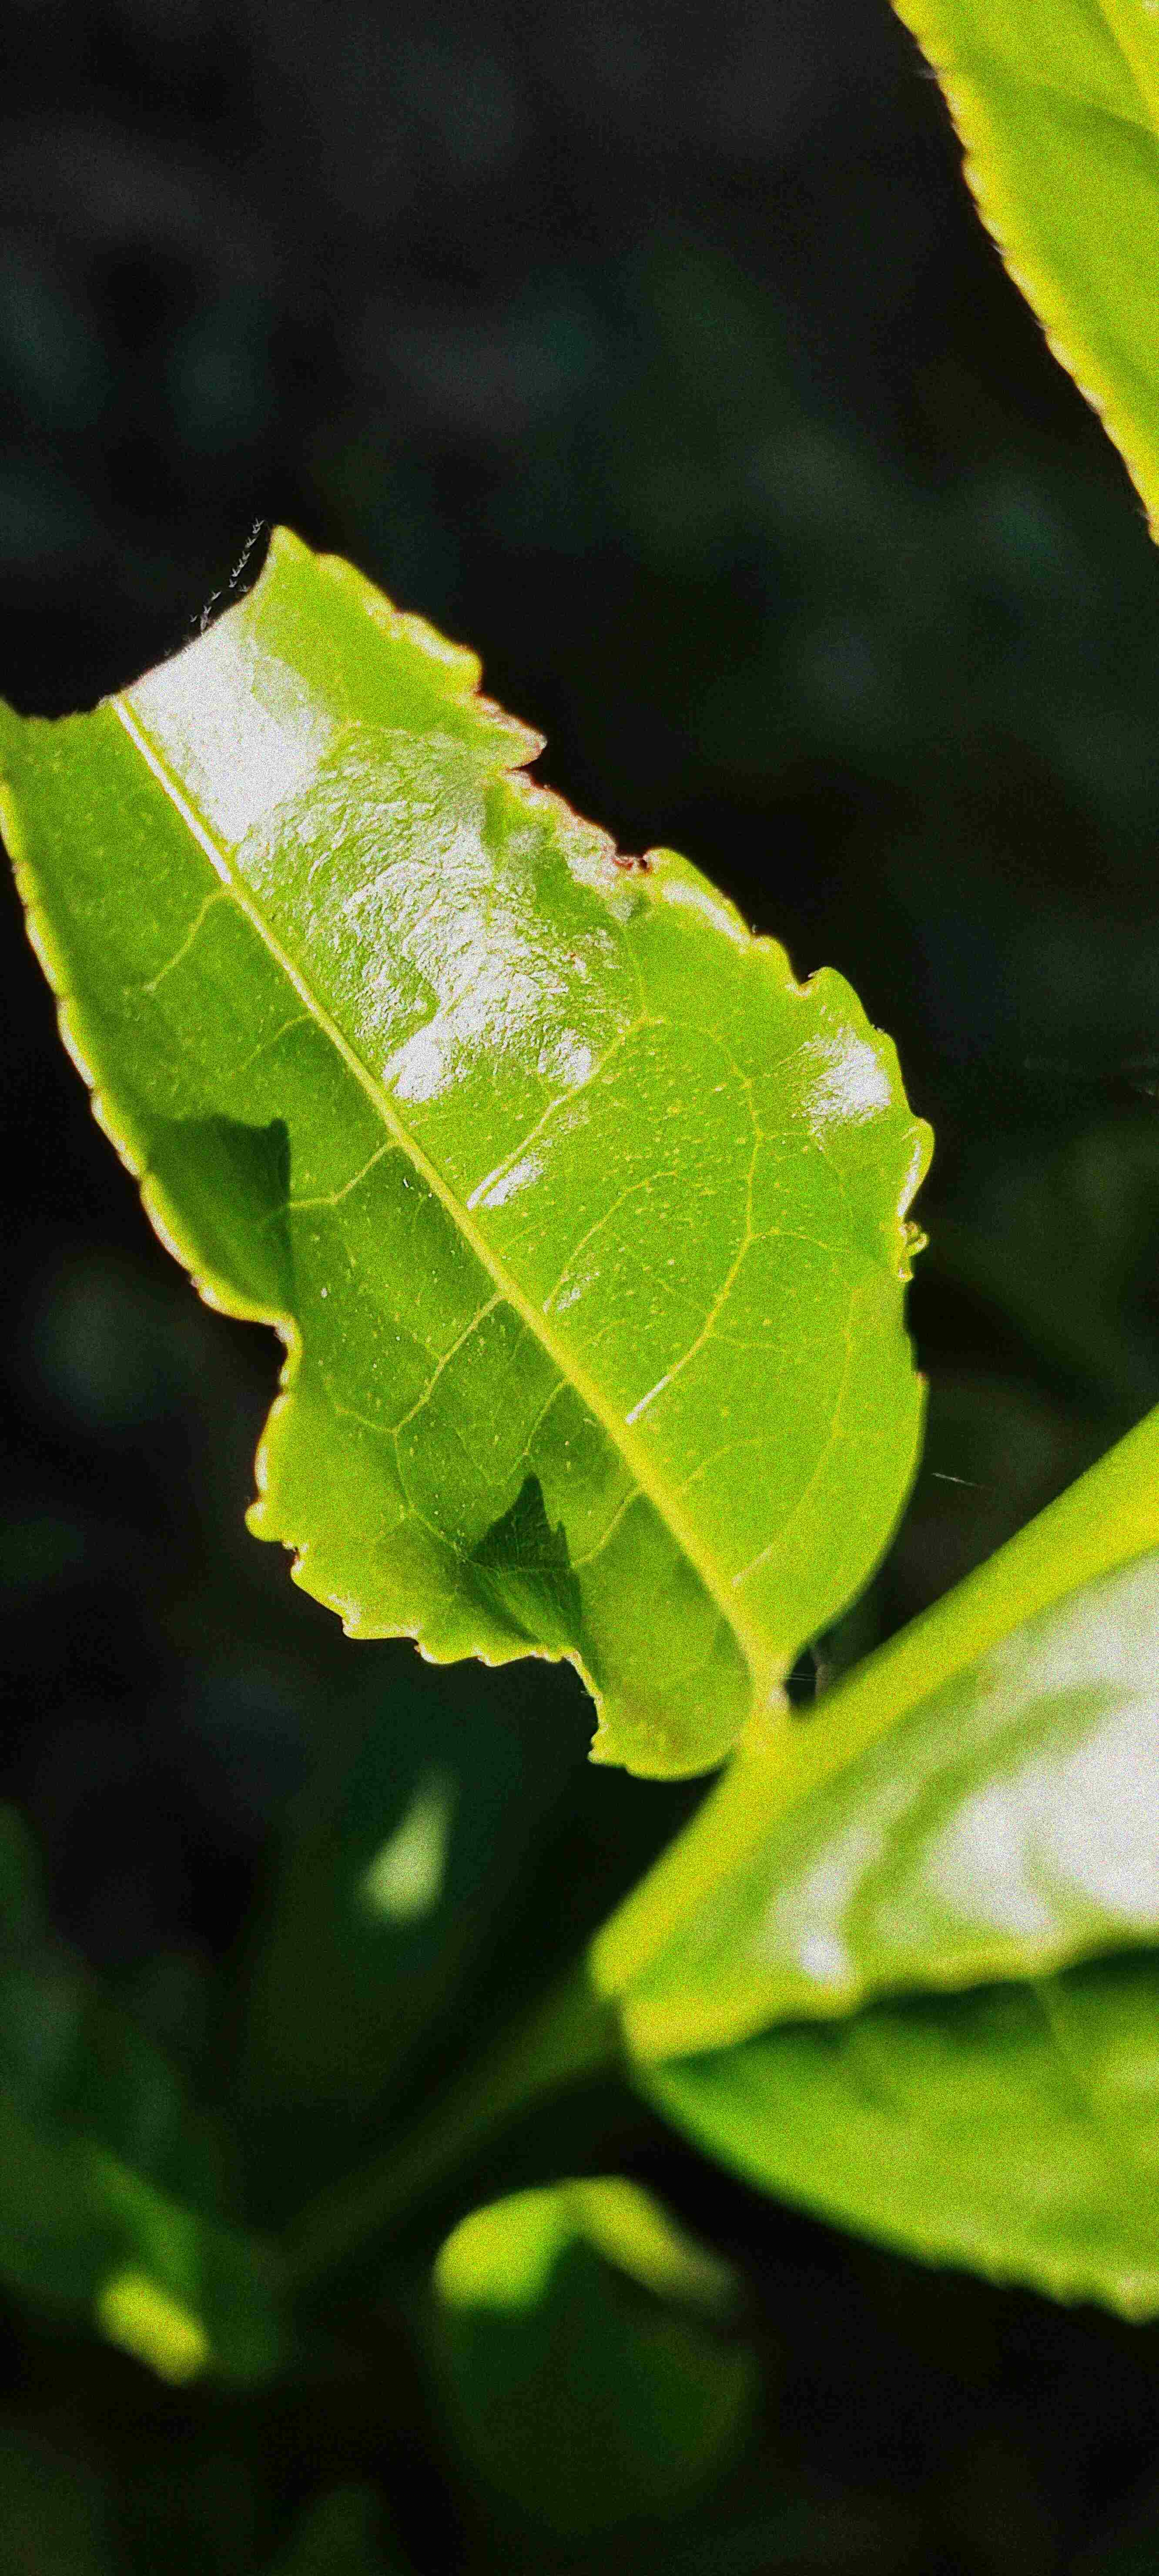chihuo_low: (8, 527, 949, 1782)
